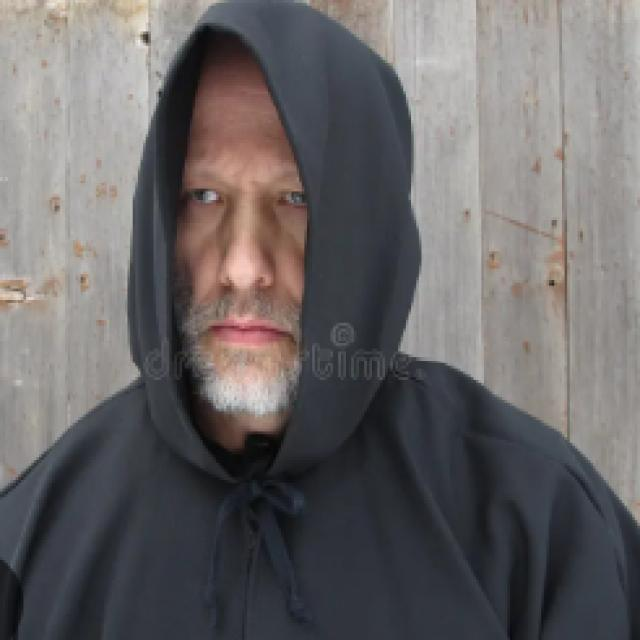4_capucha: (126, 0, 421, 507)
